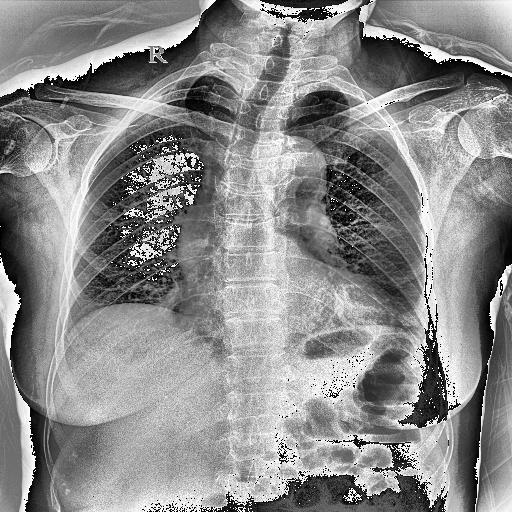0- Aortic enlargement: (168, 100, 338, 310), (189, 139, 343, 227), (209, 124, 332, 218)
3- Cardiomegaly: (154, 250, 396, 338)
5- ILD: (332, 264, 445, 350)
8- Nodule-Mass: (372, 287, 430, 356)
